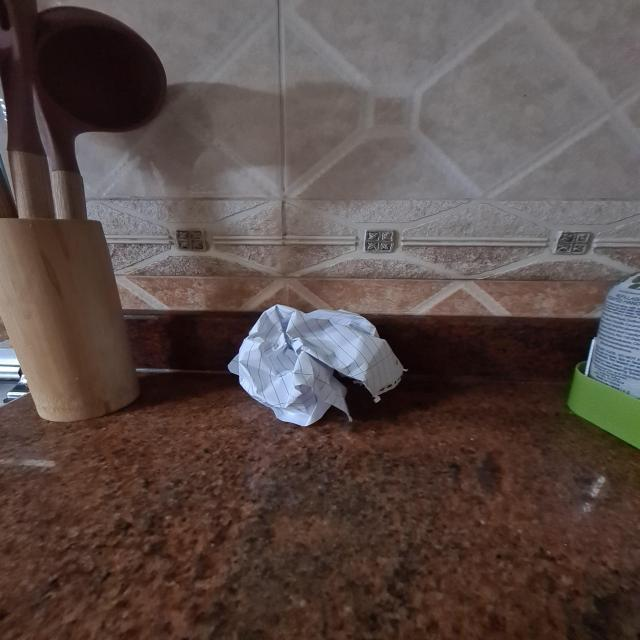trash: (227, 297, 405, 435)
